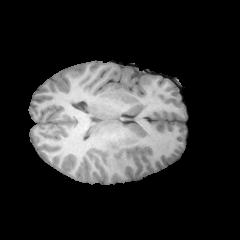glioma: (104, 140, 135, 171)
